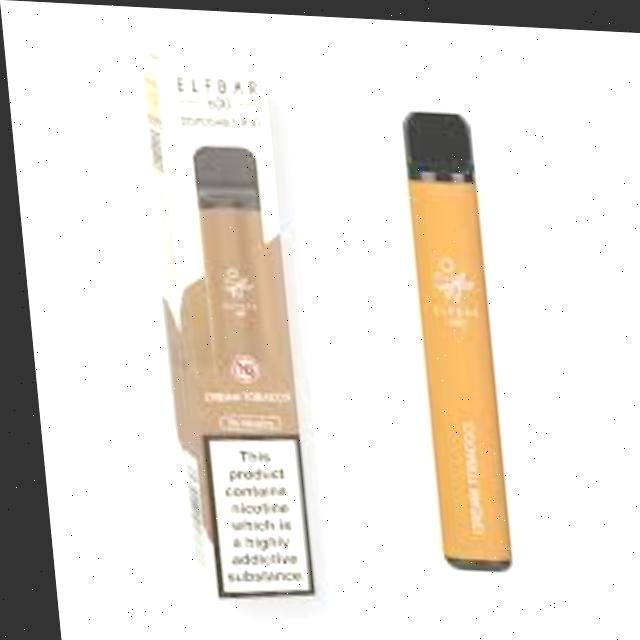vape: (399, 104, 506, 571), (189, 141, 270, 382)
